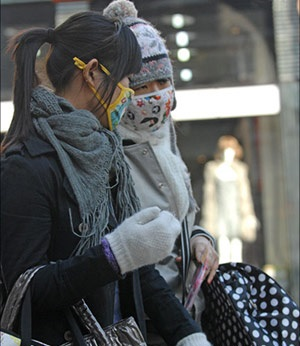face_mask: (122, 56, 173, 131), (88, 57, 128, 120)
